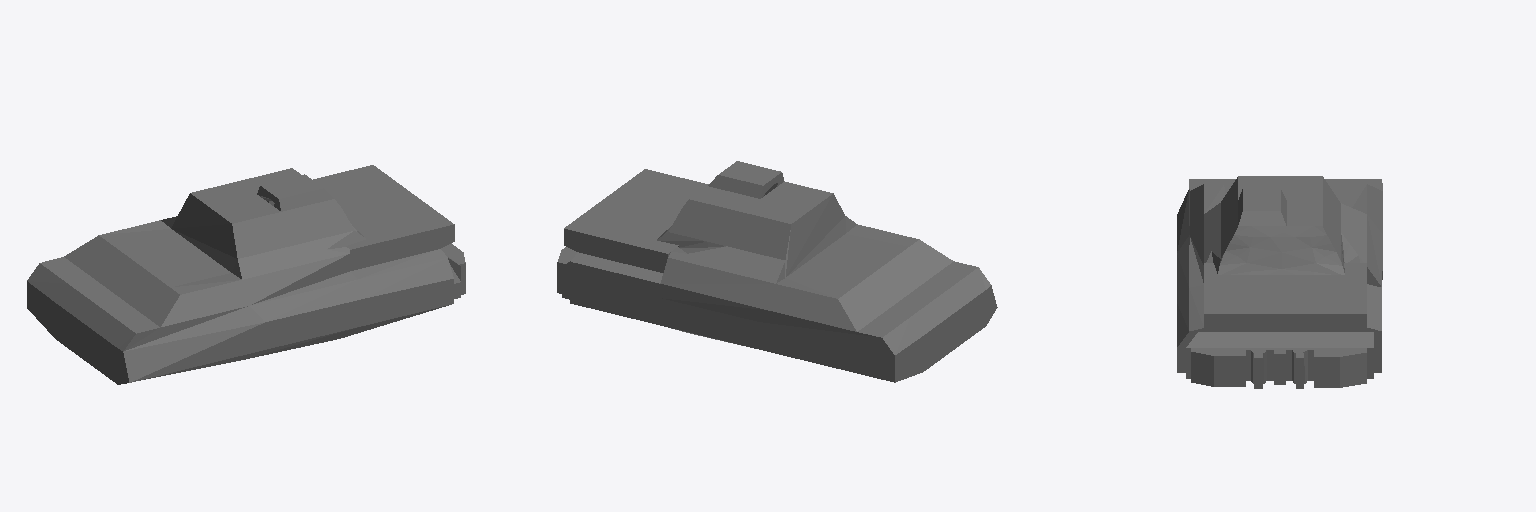
The model's file is PantherTank.obj.
3 views of the same model, side by side, from view 1: azimuth 30°, elevation 25°; view 2: azimuth 150°, elevation 25°; view 3: azimuth 270°, elevation 25° (orthographic).
Parts seen in each view (by area): view 1: default; view 2: default; view 3: default.
Boxes of the visible parts, x1,y1,x2,y2 form: default: [27, 165, 465, 384]; default: [557, 161, 997, 382]; default: [1177, 176, 1382, 388].
Size of the model in its own units: 18.03 by 6.71 by 9.04.